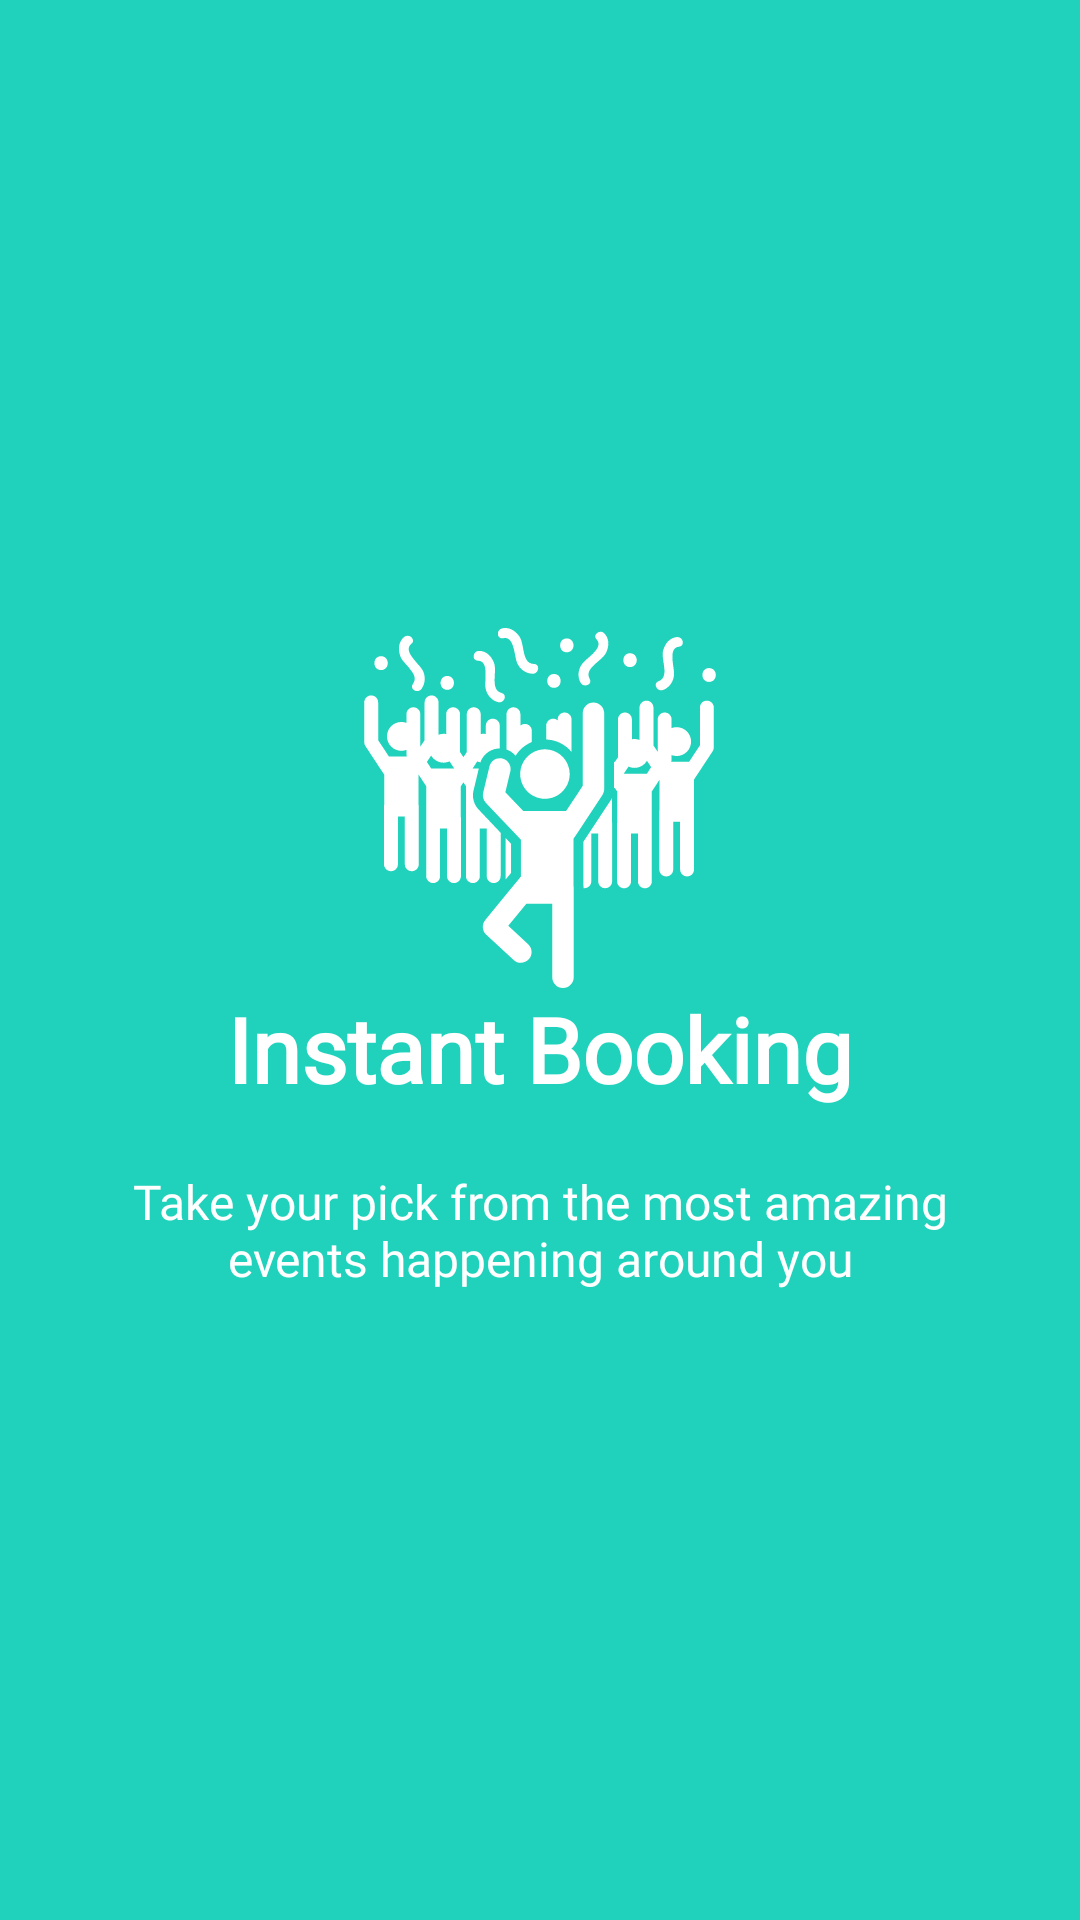

Icon click points for this 1080px x 1920px phone screenshot, format (x,y):
party: (540,808)
